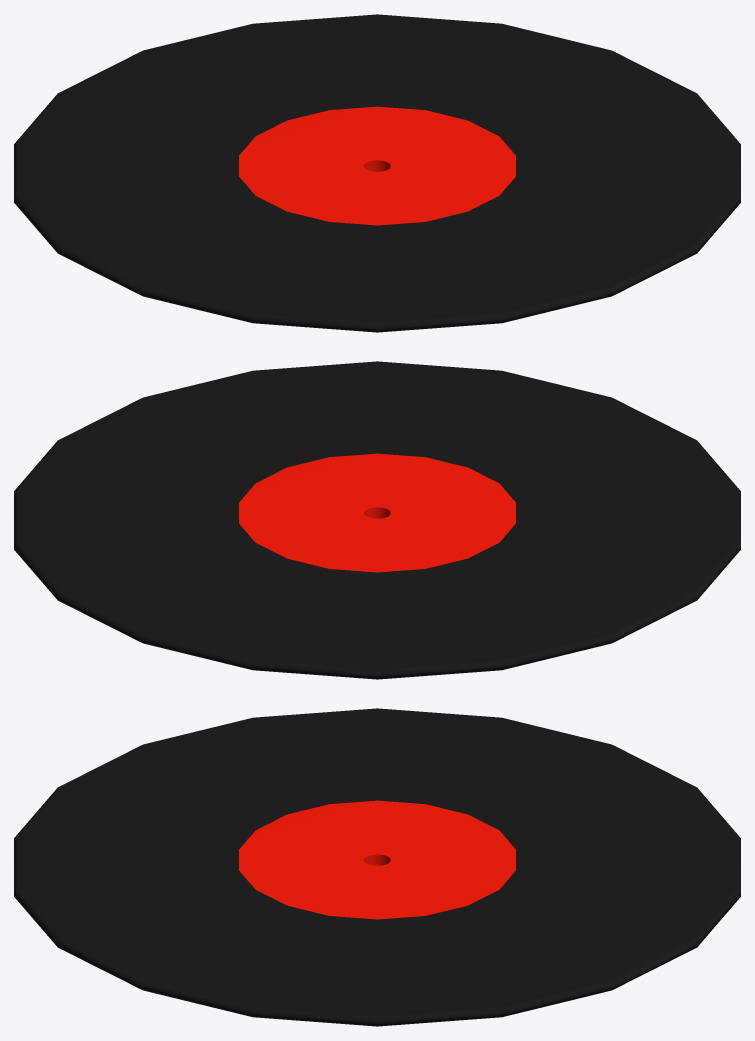
Rendered from Vinile.fbx.
The picture shows the model from 3 angles, top to bottom: view 1: azimuth 30°, elevation 25°; view 2: azimuth 150°, elevation 25°; view 3: azimuth 270°, elevation 25°; orthographic projection.
Parts seen in each view (by area): view 1: pCylinder1; view 2: pCylinder1; view 3: pCylinder1.
Part boxes in pixels (left/top/right/bottom): pCylinder1: left=14, top=14, right=740, bottom=332; pCylinder1: left=14, top=361, right=740, bottom=679; pCylinder1: left=14, top=708, right=740, bottom=1026.
Size of the model in its own units: 2 by 0.0444 by 1.97.
